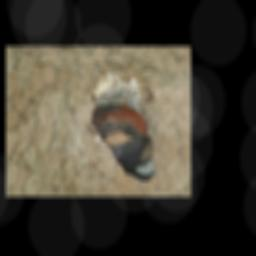Swallow: (91, 103, 149, 173)
